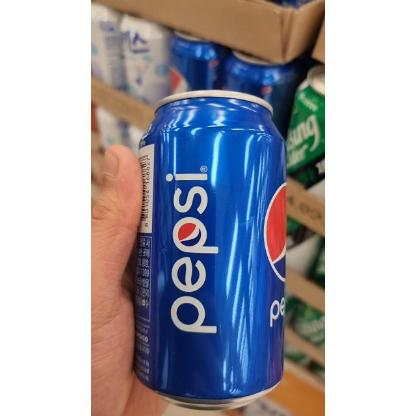Can: (132, 89, 288, 409)
